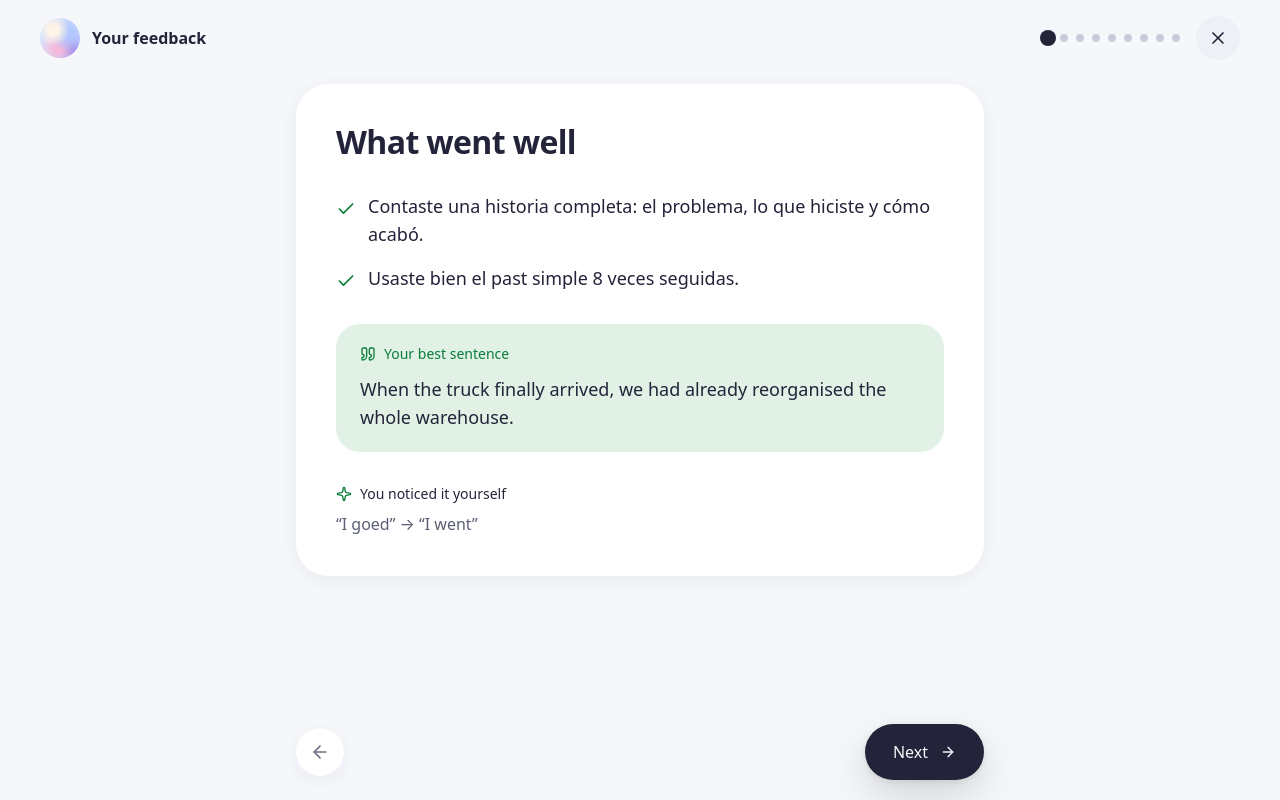
ReportScreen › the focus correction asks first, hints after a miss, then confirms a fix
Press Arrowright
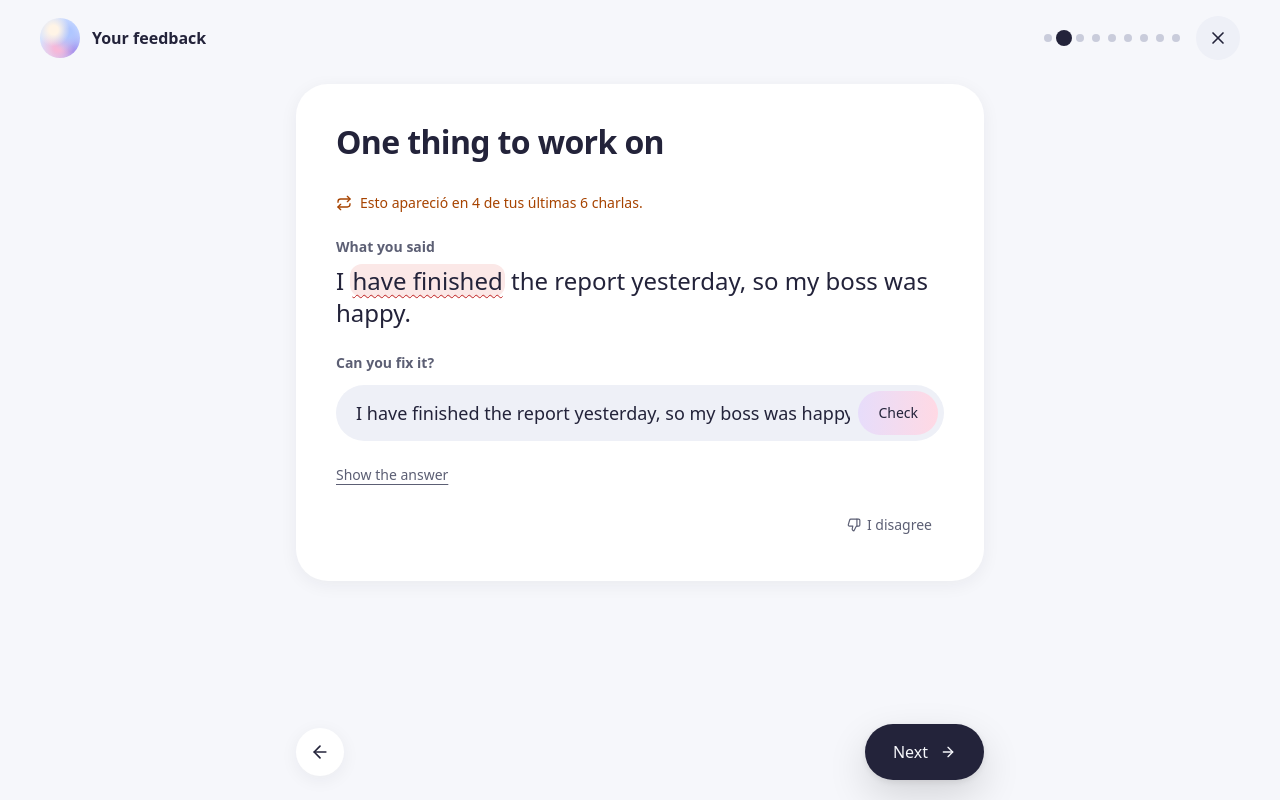
expect the text "Better" is not shown: met
expect the field labelled "Can you fix it?" holds "I have finished the report yesterday, so my boss was happy.": met, box [356, 391, 850, 435]
Click the button "Check" at (898, 413), box [858, 391, 938, 435]
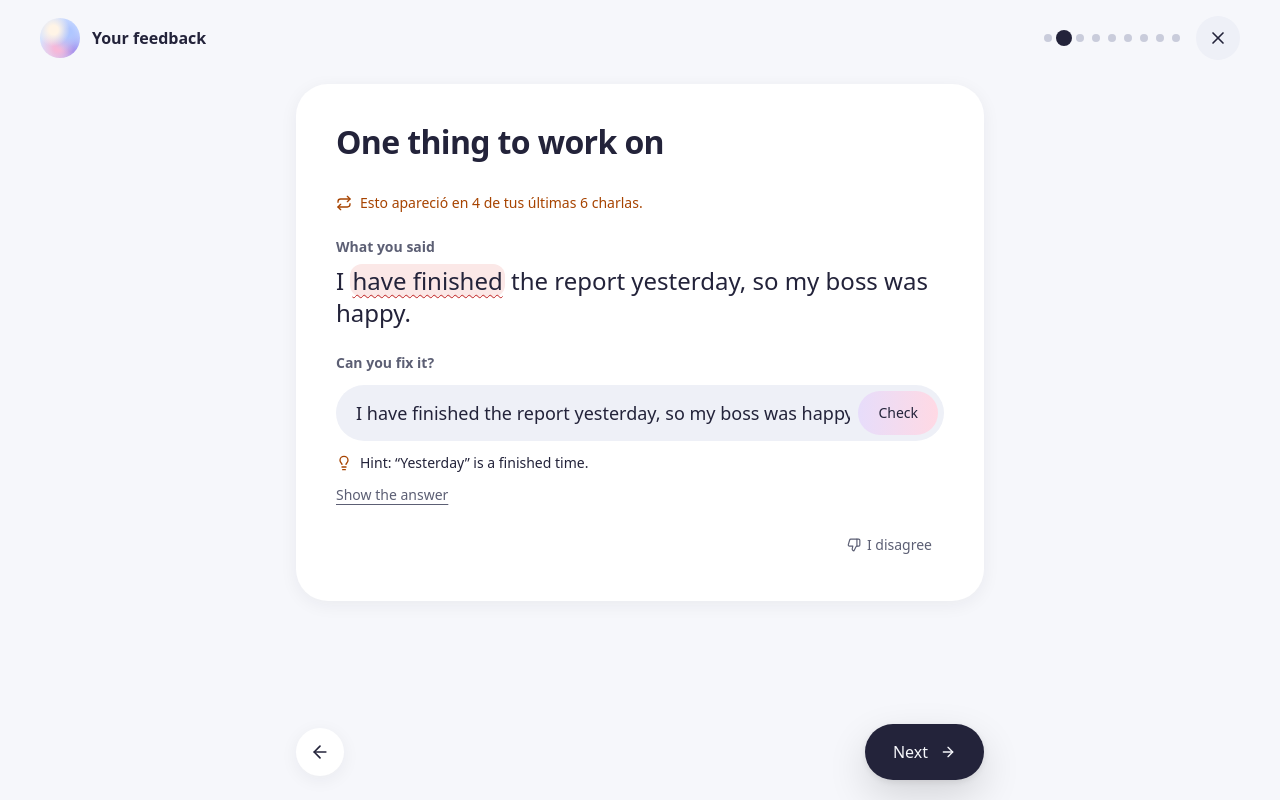
expect the text "Hint: “Yesterday” is a finished time." is shown: met, box [336, 453, 588, 472]
Replace the text in the field labelled "Can you fix it?" with "I finished the report yesterday, so my boss was happy." at (603, 413), box [356, 391, 850, 435]
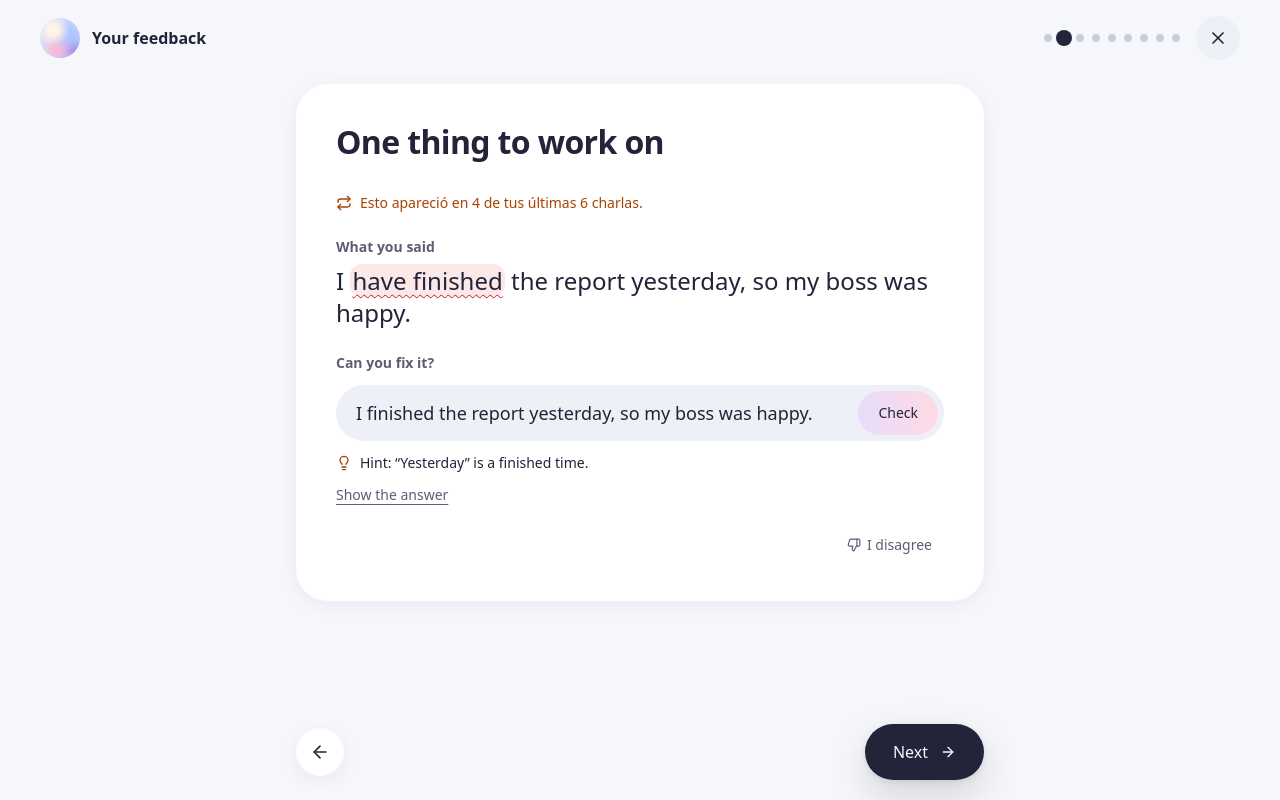
Click the button "Check" at (898, 413), box [858, 391, 938, 435]
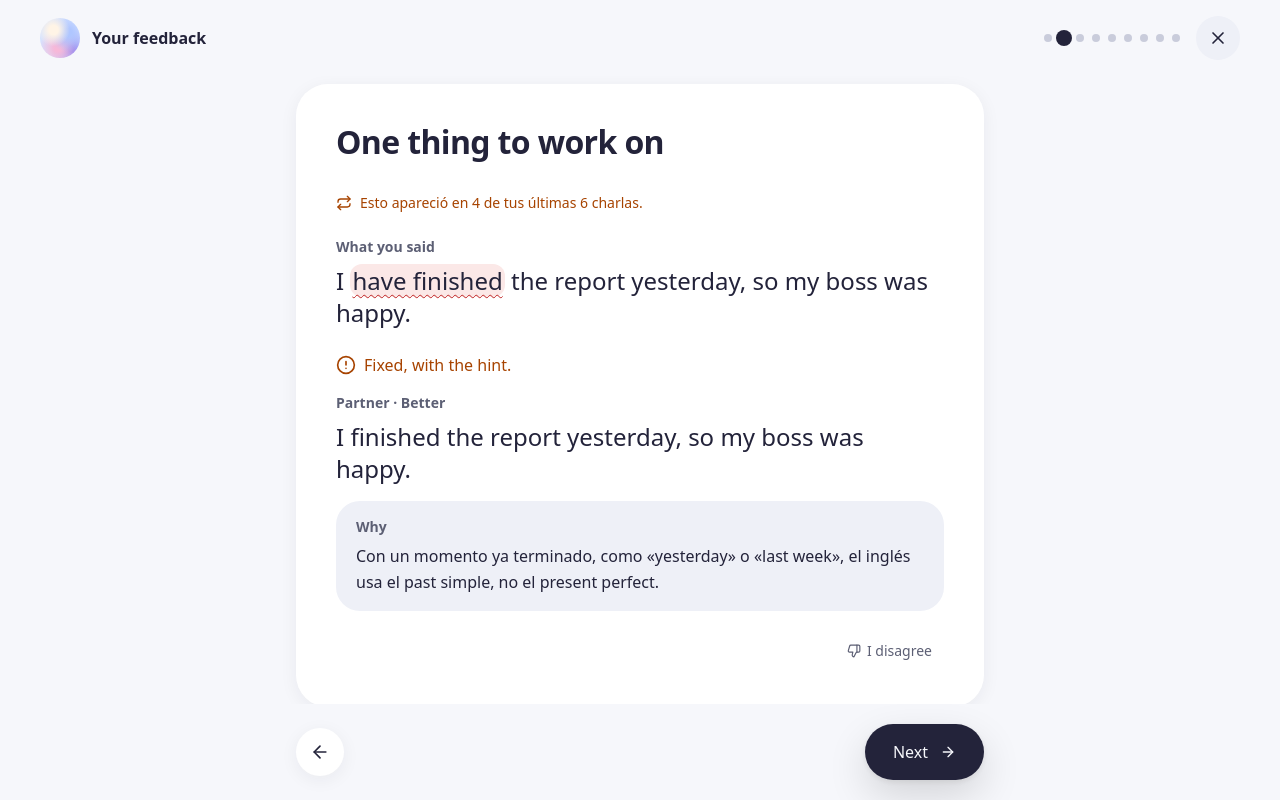
expect the text "Fixed, with the hint." is shown: met, box [336, 354, 511, 376]
expect the text "I finished the report yesterday, so my boss was happy." is shown: met, box [336, 421, 944, 485]
Click the button "I disagree" at (889, 651), box [835, 635, 944, 667]
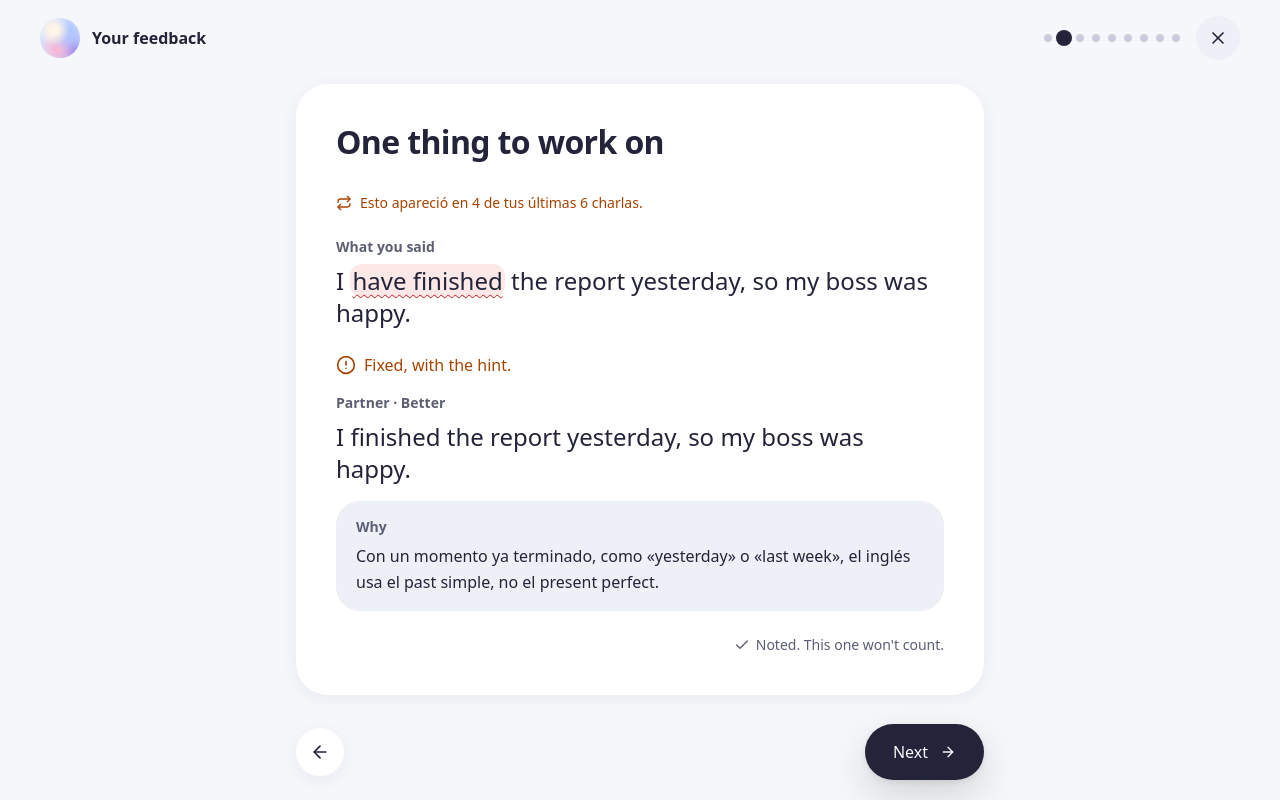
expect the text "Noted. This one won't count." is shown: met, box [734, 635, 944, 655]
